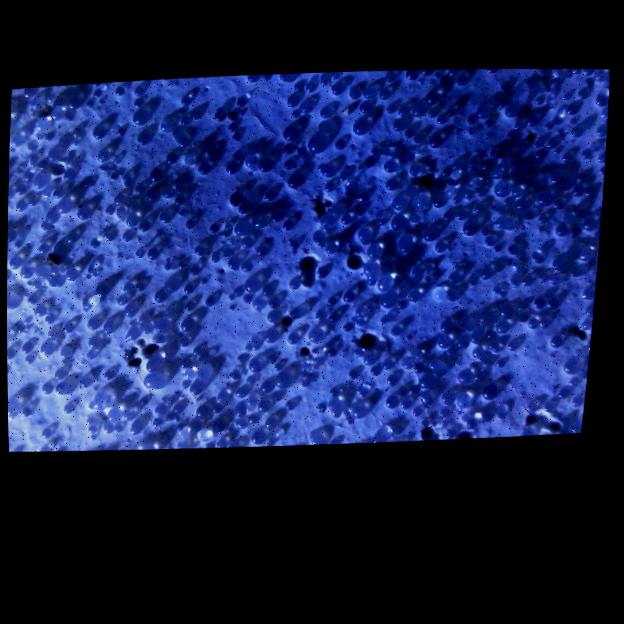GrassBeadSeg: (10, 120, 391, 439), (93, 236, 415, 408), (18, 292, 391, 405), (383, 192, 551, 439), (141, 151, 378, 304), (82, 207, 363, 312), (19, 265, 140, 428), (89, 361, 319, 442), (7, 231, 137, 363), (384, 178, 532, 282), (240, 350, 426, 426), (430, 171, 501, 365), (354, 147, 559, 214), (445, 147, 560, 250), (136, 209, 186, 436), (309, 346, 424, 444), (341, 290, 479, 371), (227, 305, 422, 358), (244, 247, 297, 423), (99, 341, 247, 397), (103, 283, 272, 332), (46, 194, 183, 253), (22, 168, 71, 328), (276, 266, 420, 320), (411, 105, 485, 209), (44, 89, 139, 168), (38, 242, 164, 301), (158, 361, 283, 420), (377, 160, 492, 224), (166, 341, 258, 420), (394, 278, 520, 335), (8, 103, 39, 324), (379, 274, 447, 374), (469, 292, 594, 344), (251, 135, 319, 227), (447, 72, 576, 120), (270, 142, 346, 222), (109, 212, 298, 244), (419, 271, 478, 372), (146, 94, 189, 230), (472, 366, 576, 421), (46, 328, 95, 433), (221, 86, 359, 120), (478, 317, 550, 382), (273, 389, 370, 437), (181, 138, 228, 236), (318, 78, 453, 111), (422, 190, 509, 241), (513, 187, 593, 242), (39, 173, 117, 229), (50, 134, 124, 193), (379, 315, 481, 356), (369, 121, 491, 155), (410, 337, 451, 438), (26, 190, 62, 302), (493, 291, 554, 357), (495, 318, 575, 366), (495, 185, 581, 228), (183, 298, 280, 335), (252, 194, 431, 214), (114, 385, 188, 433), (276, 356, 319, 437), (123, 364, 189, 416), (415, 349, 503, 388), (394, 192, 424, 306), (241, 218, 352, 248), (356, 111, 393, 201), (536, 157, 590, 218), (568, 70, 603, 161), (461, 200, 551, 235), (71, 117, 187, 144), (13, 356, 49, 439), (385, 69, 459, 109), (113, 281, 144, 374), (97, 148, 158, 195), (87, 287, 134, 348), (91, 213, 138, 274), (178, 139, 292, 164), (423, 202, 458, 282), (89, 238, 171, 270), (43, 281, 133, 310), (516, 348, 578, 388), (85, 300, 126, 360), (198, 228, 233, 296), (162, 175, 240, 205), (233, 288, 253, 405), (484, 247, 516, 320), (184, 236, 237, 279), (9, 394, 109, 416), (396, 183, 453, 221), (356, 382, 419, 416), (469, 181, 509, 234), (122, 197, 156, 258), (108, 262, 206, 283), (141, 217, 193, 256), (353, 311, 392, 363), (429, 235, 460, 300), (444, 185, 505, 218), (412, 164, 471, 198), (321, 420, 474, 433), (313, 85, 344, 149), (496, 100, 575, 125), (375, 234, 409, 292), (474, 321, 536, 352), (87, 398, 148, 429), (26, 140, 73, 180), (59, 132, 148, 153), (151, 338, 189, 387), (239, 109, 299, 138), (85, 396, 147, 424), (478, 262, 580, 279), (534, 133, 605, 157), (403, 135, 459, 165), (174, 414, 223, 447), (31, 277, 57, 339), (72, 368, 112, 408), (21, 321, 152, 333), (385, 103, 542, 113), (541, 138, 562, 208), (272, 387, 338, 409), (472, 278, 509, 317), (31, 210, 55, 270), (149, 138, 173, 197), (265, 248, 299, 289), (115, 198, 184, 218), (299, 267, 327, 316), (555, 263, 593, 299), (67, 236, 111, 267), (329, 348, 362, 389), (9, 256, 37, 304), (263, 188, 295, 229), (456, 373, 485, 418), (484, 219, 546, 240), (25, 282, 41, 362), (417, 270, 459, 300), (436, 120, 519, 135), (194, 351, 239, 378), (445, 347, 484, 377), (293, 80, 361, 97), (526, 317, 538, 413), (90, 380, 112, 432), (287, 314, 326, 343), (198, 94, 245, 118), (62, 321, 95, 354), (419, 373, 455, 403), (273, 181, 333, 199), (121, 229, 157, 259), (416, 345, 465, 367), (397, 104, 485, 116), (9, 260, 75, 276), (300, 353, 332, 386), (297, 282, 324, 321), (146, 321, 189, 345), (267, 310, 299, 342), (88, 402, 123, 431), (412, 350, 456, 373), (537, 157, 587, 177), (298, 310, 363, 325), (378, 88, 424, 109), (502, 137, 517, 201), (489, 166, 522, 195), (196, 372, 228, 401), (172, 362, 190, 413), (514, 141, 571, 157), (238, 354, 277, 377), (457, 274, 531, 286), (490, 341, 553, 355), (45, 94, 142, 103), (325, 297, 404, 308), (91, 240, 142, 257), (130, 410, 166, 434), (110, 151, 176, 164), (153, 290, 195, 310), (116, 123, 186, 135), (565, 94, 605, 115), (249, 151, 291, 171), (558, 304, 590, 330), (543, 97, 569, 129), (21, 405, 50, 433), (351, 289, 418, 301), (498, 78, 559, 91), (183, 282, 216, 306), (480, 202, 508, 230), (336, 172, 364, 200), (511, 185, 582, 196), (326, 348, 344, 391), (47, 148, 58, 216), (495, 311, 526, 335), (152, 334, 160, 426), (328, 391, 351, 423), (195, 395, 228, 417), (236, 243, 266, 267), (332, 185, 344, 245), (123, 181, 143, 217), (433, 197, 446, 252), (457, 369, 494, 388), (441, 390, 495, 403), (72, 102, 92, 137), (189, 382, 247, 394), (378, 320, 411, 341), (418, 217, 430, 274), (116, 295, 147, 317), (333, 213, 350, 253), (155, 403, 207, 416), (149, 157, 177, 181), (112, 219, 147, 238), (197, 268, 214, 307), (408, 134, 424, 175), (422, 113, 447, 139), (476, 308, 511, 326), (183, 406, 245, 416), (551, 256, 582, 276), (403, 114, 434, 134), (28, 103, 38, 164), (405, 72, 466, 82), (468, 278, 555, 285), (500, 279, 543, 293), (29, 186, 62, 204), (245, 374, 258, 419), (576, 75, 605, 95), (534, 96, 551, 130), (113, 186, 145, 204), (509, 284, 527, 316), (252, 147, 276, 171), (160, 395, 180, 423), (222, 409, 258, 424), (429, 413, 467, 427), (65, 231, 76, 279), (539, 319, 591, 329), (530, 124, 557, 143), (552, 198, 579, 217), (556, 386, 581, 406), (165, 396, 182, 425), (194, 243, 221, 261), (433, 185, 455, 207), (275, 399, 295, 423), (114, 89, 140, 107), (594, 93, 606, 132), (189, 247, 205, 276), (569, 195, 592, 215), (346, 306, 364, 330), (227, 123, 239, 159), (29, 403, 71, 413), (226, 99, 246, 120), (113, 322, 139, 338), (199, 352, 245, 361), (240, 241, 253, 272), (383, 69, 416, 81), (43, 313, 71, 327), (227, 256, 253, 271), (16, 192, 37, 210), (145, 188, 174, 201), (420, 418, 467, 426), (493, 236, 518, 251), (211, 403, 245, 414), (137, 286, 147, 323), (210, 226, 220, 262), (342, 386, 352, 422), (231, 151, 276, 159), (184, 367, 201, 388), (8, 186, 25, 207), (317, 275, 376, 281), (257, 380, 268, 412), (323, 238, 345, 254), (260, 381, 283, 396), (22, 280, 30, 323), (271, 391, 295, 405), (104, 228, 132, 240), (24, 144, 36, 172), (446, 175, 459, 200), (396, 234, 414, 252), (192, 221, 218, 233), (326, 303, 333, 347), (55, 383, 89, 392), (483, 240, 517, 249), (542, 395, 567, 407), (550, 83, 570, 98), (375, 213, 417, 220), (165, 413, 181, 431), (521, 141, 555, 149), (105, 418, 132, 428), (307, 137, 325, 152), (219, 423, 234, 441), (455, 337, 493, 344), (526, 402, 552, 412), (27, 280, 53, 290), (479, 233, 499, 246), (36, 133, 79, 139), (287, 172, 303, 188), (179, 316, 195, 332), (153, 315, 169, 331), (362, 260, 378, 276), (441, 68, 456, 85), (264, 406, 275, 429), (214, 110, 237, 121), (43, 189, 50, 225), (34, 305, 53, 318), (44, 134, 79, 141), (571, 385, 582, 407), (258, 156, 273, 172), (282, 126, 298, 141), (392, 193, 407, 209), (233, 220, 249, 235), (133, 108, 148, 124), (76, 204, 92, 219), (33, 172, 48, 188), (40, 339, 55, 355), (244, 277, 260, 292), (197, 427, 213, 442), (307, 326, 322, 342), (275, 372, 291, 387), (248, 355, 264, 370), (263, 327, 279, 342), (86, 314, 102, 329), (389, 214, 405, 229), (321, 161, 336, 177), (357, 226, 372, 242), (55, 369, 65, 393), (184, 287, 194, 311), (192, 346, 207, 362), (97, 94, 121, 104), (408, 386, 418, 410), (466, 202, 484, 215), (7, 348, 30, 358), (498, 84, 508, 107), (352, 119, 367, 134), (160, 116, 175, 131), (91, 124, 106, 139), (34, 116, 49, 131), (107, 406, 122, 421), (250, 428, 265, 443), (123, 302, 138, 317), (251, 295, 266, 310), (164, 277, 179, 292), (319, 212, 334, 227), (366, 244, 381, 259), (382, 158, 398, 172), (57, 198, 73, 212), (188, 99, 199, 119), (283, 146, 292, 170), (50, 106, 64, 121), (143, 373, 158, 387), (59, 344, 73, 359), (145, 357, 160, 371), (50, 373, 64, 388), (445, 101, 460, 115), (472, 117, 491, 128), (569, 97, 585, 110), (10, 132, 24, 146), (439, 318, 453, 332), (437, 333, 451, 347), (362, 350, 376, 364), (400, 354, 414, 368), (384, 393, 398, 407), (439, 77, 467, 84), (238, 199, 251, 214), (280, 215, 293, 230), (262, 285, 278, 297), (482, 168, 490, 192), (164, 259, 185, 268), (558, 175, 585, 182), (242, 343, 259, 354), (432, 286, 445, 300), (420, 391, 434, 404), (531, 249, 544, 263), (577, 247, 591, 260), (427, 134, 441, 147), (285, 94, 299, 107), (424, 91, 439, 103), (495, 404, 508, 417), (549, 334, 562, 347), (532, 295, 545, 308), (554, 223, 567, 236), (513, 198, 526, 211), (504, 104, 517, 117), (358, 100, 371, 113), (391, 118, 405, 130), (318, 105, 332, 117), (330, 82, 344, 94), (362, 86, 376, 98), (88, 90, 100, 104), (176, 430, 185, 448), (538, 274, 554, 284), (570, 125, 583, 137), (299, 100, 312, 112), (225, 161, 238, 173), (197, 162, 210, 174), (302, 81, 315, 93), (582, 219, 594, 231), (385, 374, 397, 386), (438, 406, 450, 418), (47, 270, 56, 285), (351, 407, 363, 418), (369, 364, 380, 376), (399, 398, 411, 409), (454, 207, 465, 219), (546, 299, 558, 310), (473, 371, 484, 383), (389, 324, 400, 336), (108, 173, 130, 179), (492, 286, 505, 296), (332, 317, 364, 321), (424, 266, 431, 284), (226, 127, 240, 136), (346, 368, 357, 379), (476, 106, 487, 117), (483, 330, 494, 341), (380, 358, 391, 369), (244, 155, 256, 165), (15, 183, 25, 195), (560, 151, 570, 163), (227, 294, 234, 311), (179, 356, 190, 366), (571, 184, 581, 195), (22, 174, 33, 184), (364, 276, 374, 287), (580, 149, 591, 159), (549, 174, 559, 185), (532, 137, 542, 148), (327, 71, 338, 81), (460, 187, 472, 196), (21, 343, 31, 353), (507, 340, 517, 350), (330, 407, 341, 416), (595, 126, 604, 137), (524, 116, 535, 125), (507, 129, 516, 140), (413, 131, 422, 142), (475, 186, 484, 197), (41, 382, 50, 392), (79, 377, 88, 387), (315, 402, 325, 411), (288, 309, 297, 319), (30, 163, 45, 169), (13, 320, 20, 332), (83, 272, 97, 278), (104, 207, 113, 216), (121, 177, 132, 184), (233, 294, 252, 298), (327, 312, 336, 320), (245, 397, 254, 405), (123, 180, 131, 189), (409, 213, 418, 221), (440, 169, 449, 177), (449, 161, 458, 169), (395, 301, 405, 308), (320, 343, 328, 351), (243, 294, 251, 302), (341, 323, 350, 330), (426, 109, 435, 116), (237, 420, 245, 427), (231, 132, 238, 140), (465, 117, 473, 123)
